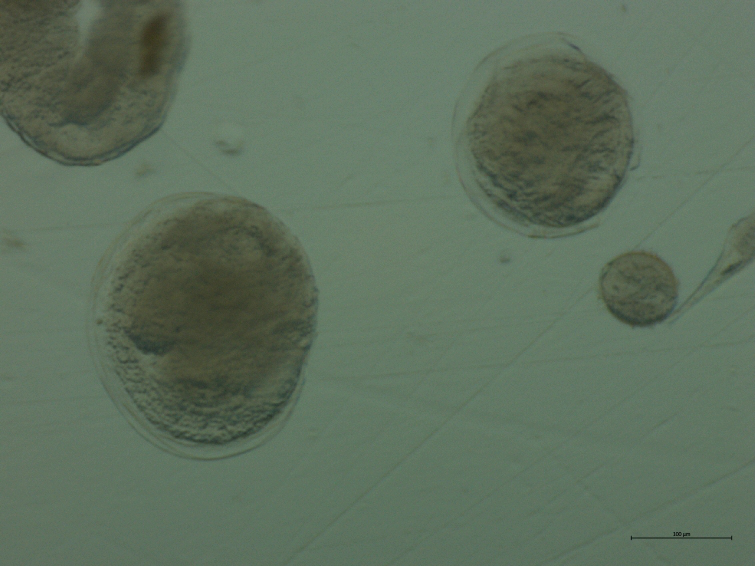oyster: (72, 180, 330, 469), (444, 32, 649, 249)
